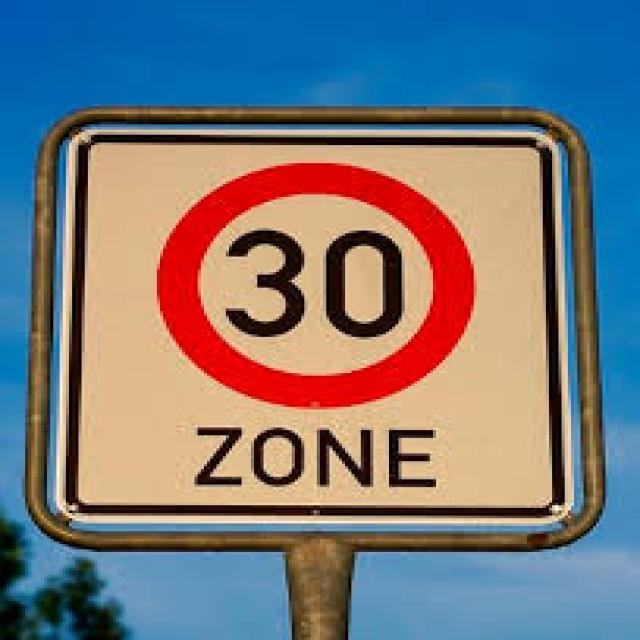Speed limit 30: (155, 159, 478, 408)
